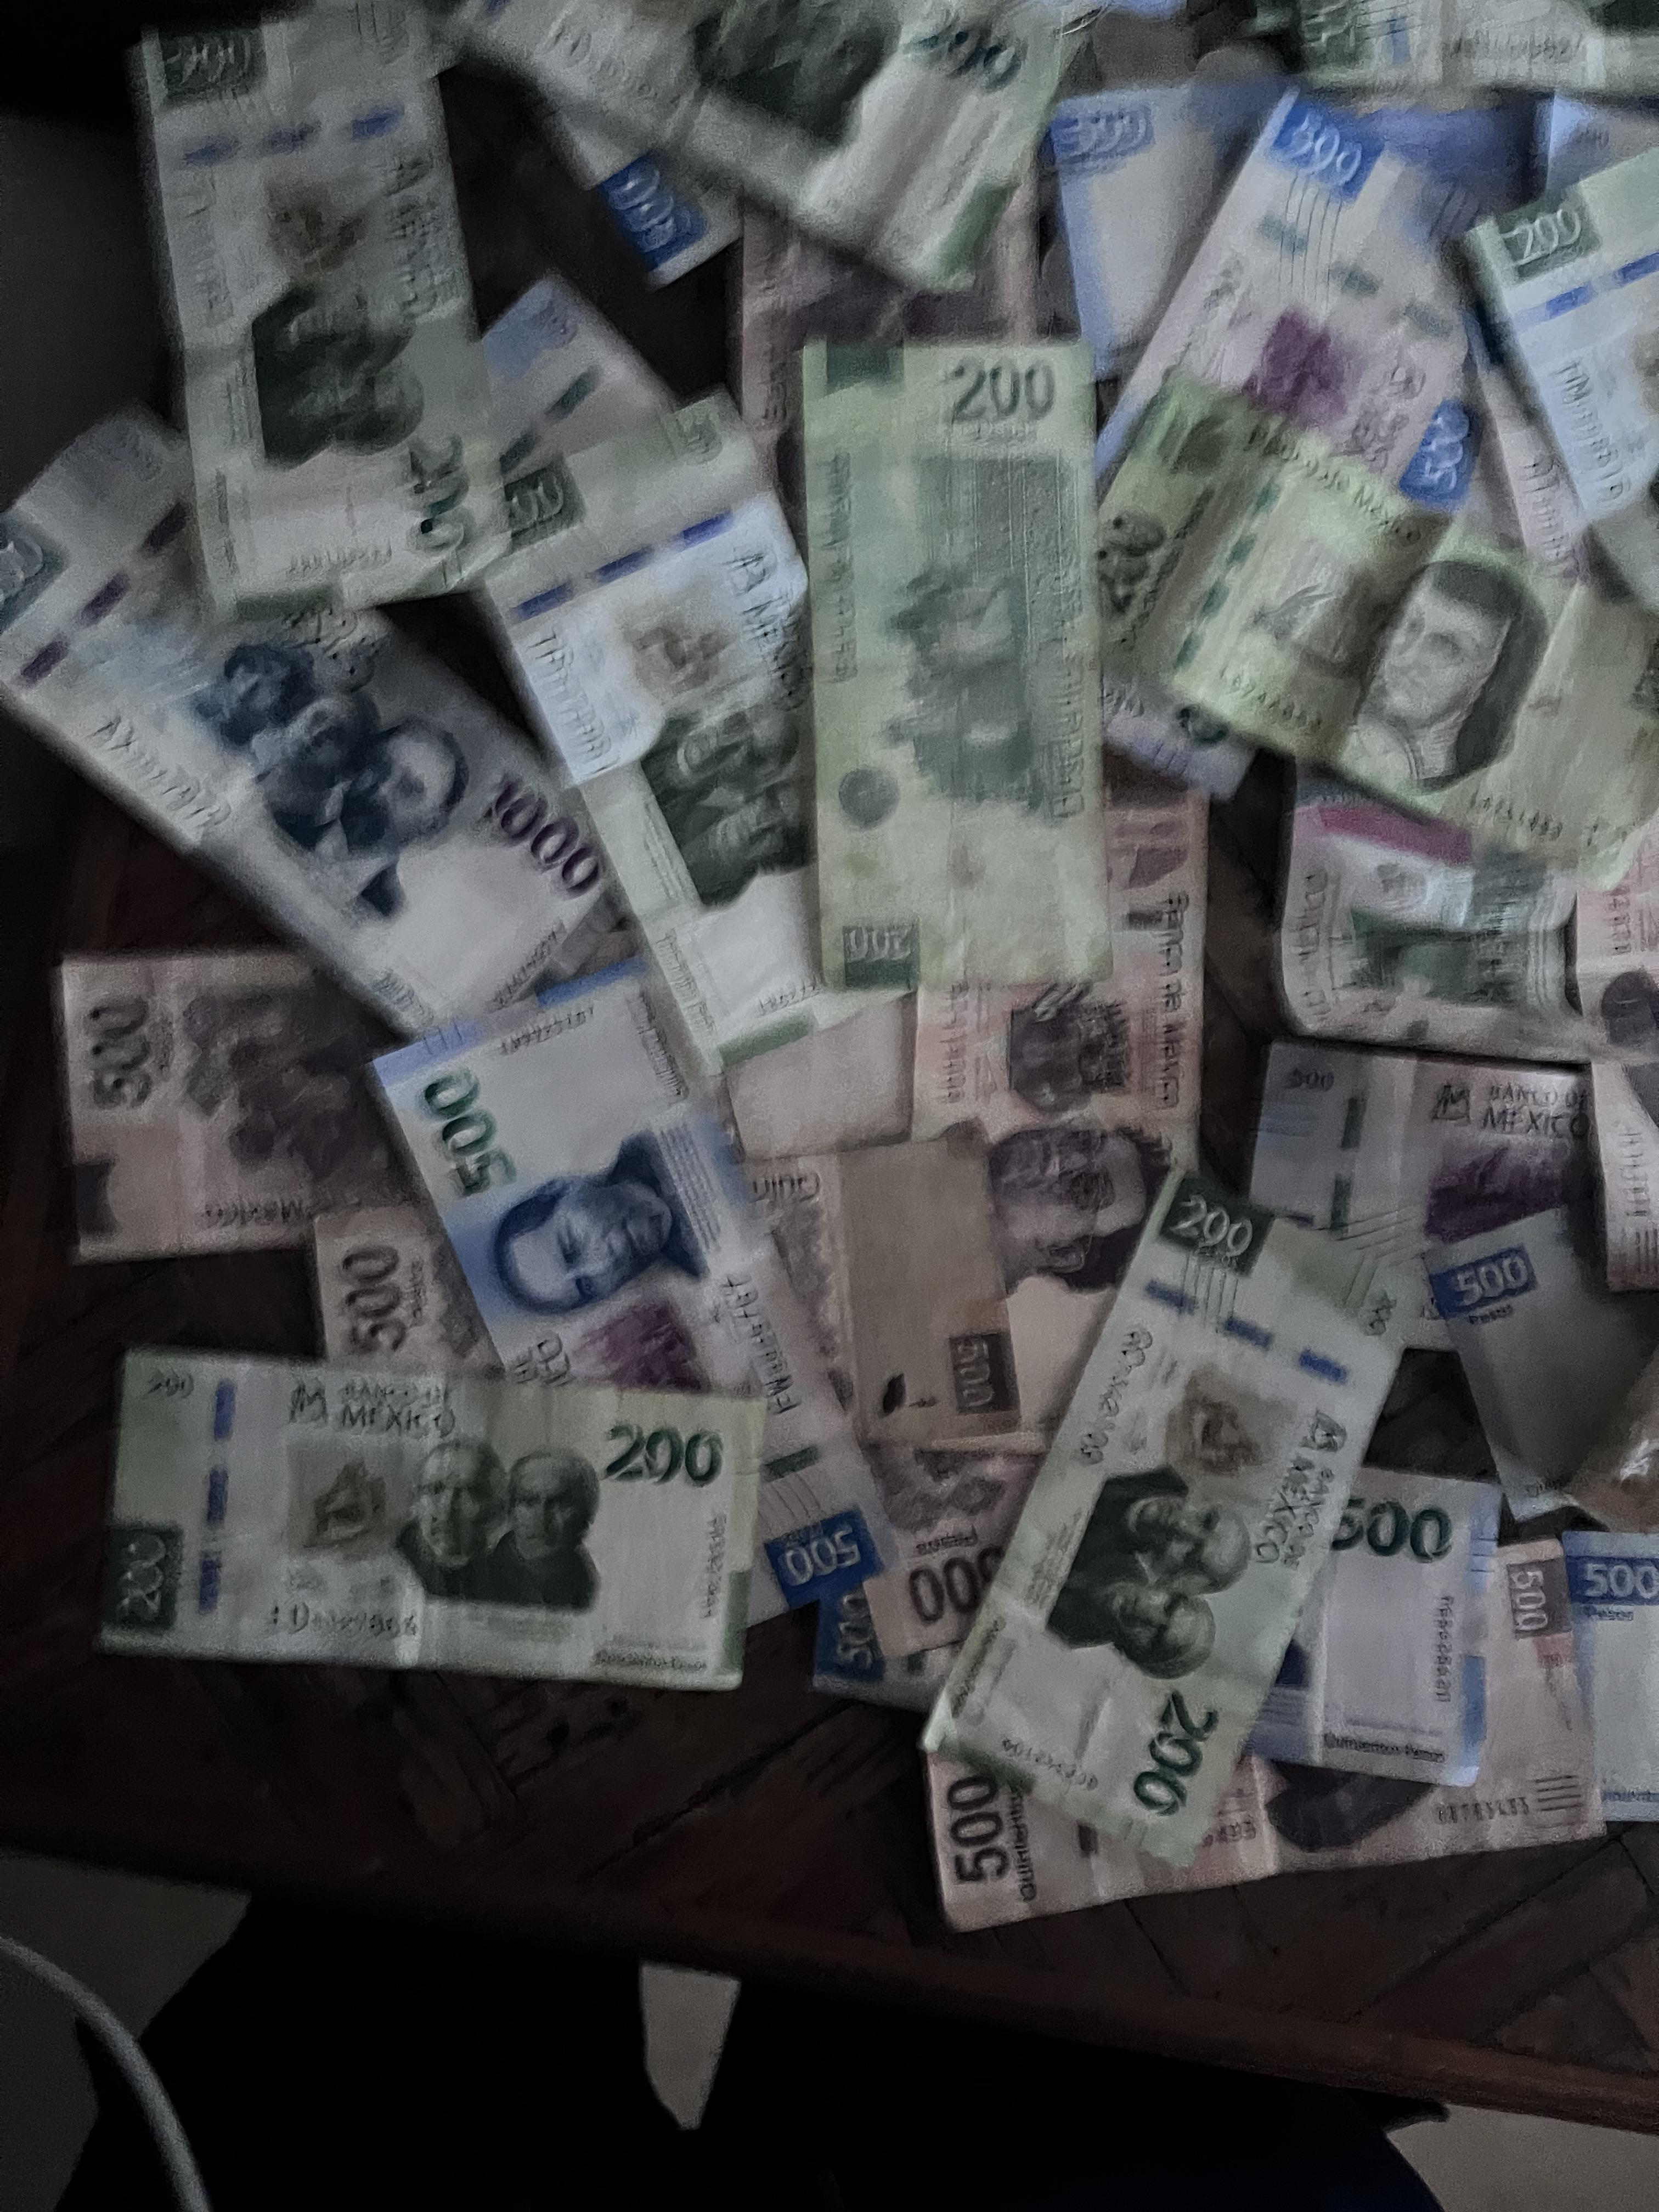1000: (0, 404, 617, 1040)
20: (1304, 796, 1581, 1050)
200: (917, 1144, 1439, 1874), (472, 381, 979, 1066), (1068, 371, 1659, 895), (1094, 368, 1659, 874), (108, 1350, 765, 1703), (132, 0, 504, 624), (795, 333, 1124, 989), (432, 0, 1115, 284), (1302, 0, 1659, 82)
500: (917, 759, 1218, 1343), (45, 948, 479, 1266)
500 nuevo: (383, 956, 906, 1613), (1077, 80, 1572, 484), (1258, 1035, 1608, 1346), (1408, 1209, 1659, 1507), (1551, 1515, 1659, 1824)
